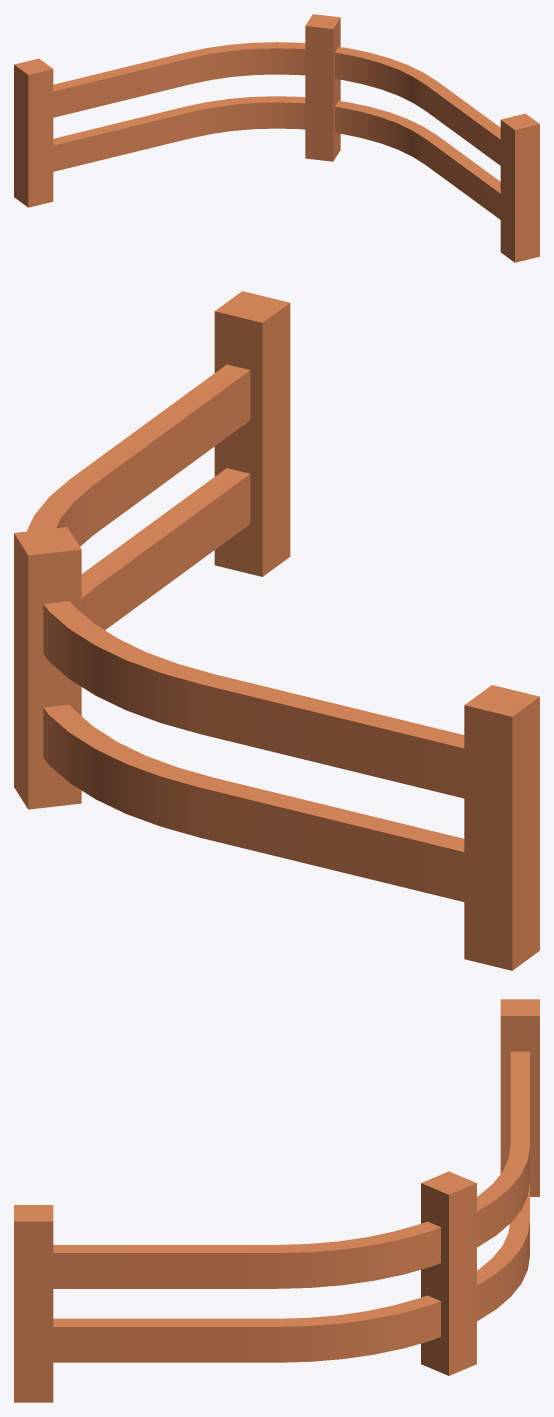
The model's file is fenceCurved.obj.
3 views of the same model, one above another, from view 1: azimuth 30°, elevation 25°; view 2: azimuth 150°, elevation 25°; view 3: azimuth 270°, elevation 25° (orthographic). The views are drawn at different scales.
Parts seen in each view (by area): view 1: fenceCurved; view 2: fenceCurved; view 3: fenceCurved.
Boxes of the visible parts, x1=… form: fenceCurved: x1=14, y1=14, x2=539, y2=262; fenceCurved: x1=14, y1=291, x2=539, y2=970; fenceCurved: x1=14, y1=999, x2=539, y2=1402.
Bounding box in the file's own units: 1 × 0.38 × 1.
